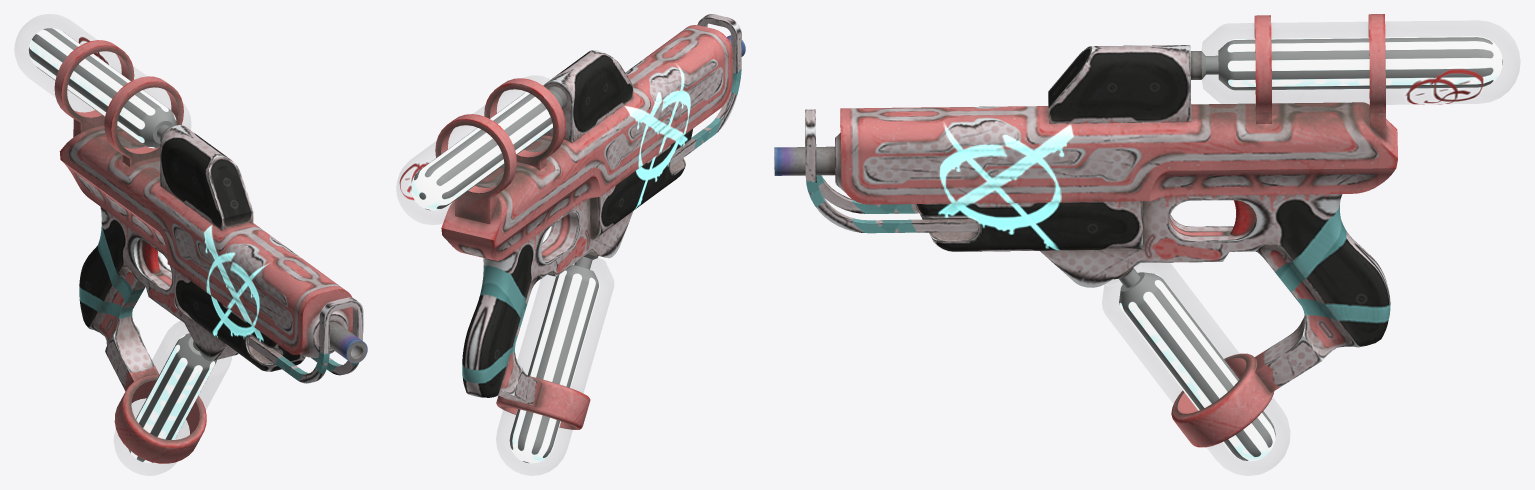
File: handgun_1.gltf
3 views of the same model, side by side, from view 1: azimuth 30°, elevation 25°; view 2: azimuth 150°, elevation 25°; view 3: azimuth 270°, elevation 25° (orthographic). The views are drawn at different scales.
Visible parts, largest first — view 1: handgun_1_body, handgun_1_energy; view 2: handgun_1_body, handgun_1_energy; view 3: handgun_1_body, handgun_1_energy.
Part boxes in pixels (<box>): handgun_1_body: <box>15,14,367,475</box>; handgun_1_energy: <box>28,28,216,463</box>; handgun_1_body: <box>397,14,745,475</box>; handgun_1_energy: <box>411,89,599,463</box>; handgun_1_body: <box>774,14,1519,475</box>; handgun_1_energy: <box>1115,22,1502,461</box>.
Bounding box in the file's own units: 0.0374 × 0.1809 × 0.2698.
Materials: 2 (2 with a texture image).
